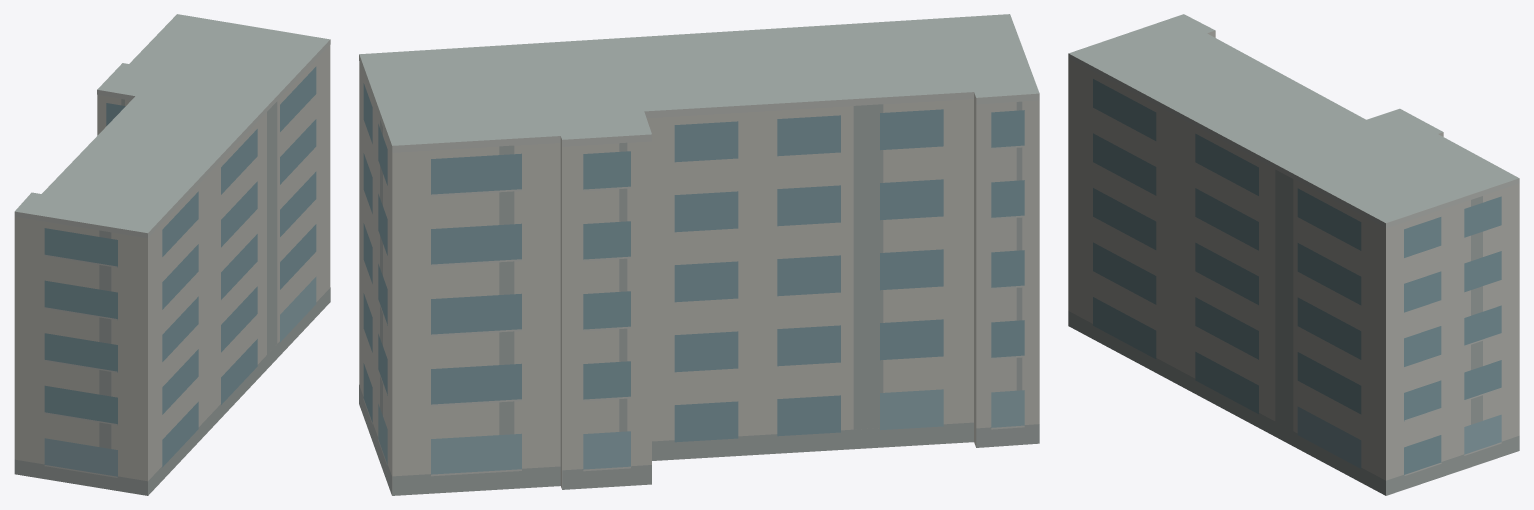
The model's file is survey-upis-32724160.glb.
The picture shows the model from 3 angles, left to right: view 1: azimuth 30°, elevation 25°; view 2: azimuth 150°, elevation 25°; view 3: azimuth 270°, elevation 25°; orthographic projection. The views are drawn at different scales.
Visible parts, largest first — view 1: survey-upis-32724160.tmp; view 2: survey-upis-32724160.tmp; view 3: survey-upis-32724160.tmp.
Part boxes in pixels (left/top/right/bottom): survey-upis-32724160.tmp: left=14, top=14, right=330, bottom=495; survey-upis-32724160.tmp: left=359, top=14, right=1039, bottom=495; survey-upis-32724160.tmp: left=1068, top=14, right=1519, bottom=495.
Bounding box in the file's own units: 20.59 × 12.5 × 18.75.
